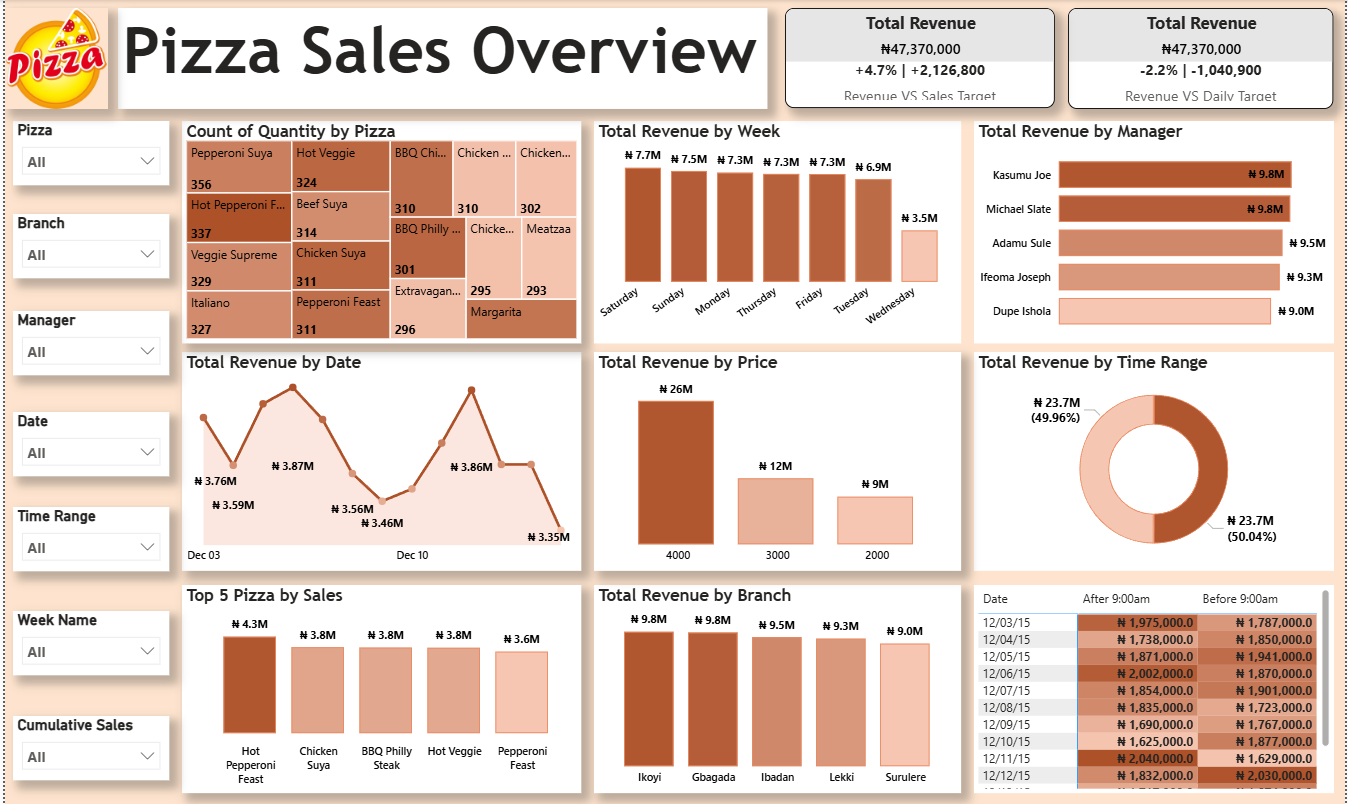

What the dashboard file says about the page in this screenshot:
{"tool":"powerbi","page":{"name":"Page 1","canvas":[1500,900],"ordinal":0},"visuals":[{"type":"card","title":"Total Revenue","fields":{"Values":["Sales Data.KPI Total Revenue VS Target"]},"box":[1190.3,8.7,297.3,112.7],"z":0},{"type":"stackedAreaChart","fields":{"Category":["Sales Data.Date"],"Y":["Sales Data.Total Revenue"]},"box":[198.2,393.9,447.2,245.3],"z":1000},{"type":"treemap","title":"Count of Quantity by Pizza","fields":{"Group":["Sales Data.Pizza Sold"],"Values":["CountNonNull(Sales Data.Quantity)"]},"box":[198.2,135,447.2,249],"z":2000},{"type":"barChart","title":"Total Revenue by Manager","fields":{"Category":["Branch Data.Manager"],"Y":["Sum(Sales Data.Revenue)"]},"box":[1085.1,135,402.6,249],"z":3000},{"type":"columnChart","title":"Total Revenue by Week","fields":{"Y":["Sum(Sales Data.Revenue)"],"Category":["Sales Data.Week Name"]},"box":[659,135,411.2,249],"z":4000},{"type":"donutChart","title":"Total Revenue by Time Range","fields":{"Category":["Sales Data.Time Range"],"Y":["Sum(Sales Data.Revenue)"]},"box":[1085.1,393.9,402.6,245.3],"z":5000},{"type":"columnChart","title":"Top 5 Pizza by Sales","fields":{"Category":["Sales Data.Pizza Sold"],"Y":["Sum(Sales Data.Revenue)"]},"box":[198.2,655.2,447.2,232.9],"z":6000},{"type":"columnChart","title":"Total Revenue by Branch","fields":{"Category":["Sales Data.Branch"],"Y":["Sum(Sales Data.Revenue)"]},"box":[659,655.2,411.2,232.9],"z":7000},{"type":"columnChart","fields":{"Category":["Sales Data.Price"],"Y":["Sales Data.Total Revenue"]},"box":[659,393.9,411.2,245.3],"z":8000},{"type":"pivotTable","fields":{"Rows":["Sales Data.Date"],"Columns":["Sales Data.Time Range"],"Values":["Sum(Sales Data.Revenue)"]},"box":[1085.1,655.2,402.6,232.9],"z":9000},{"type":"card","title":"Total Revenue","fields":{"Values":["Daily Target.KPI Total Revenue VS Sales Target"]},"box":[873.2,8.8,302,112.5],"z":10000},{"type":"textbox","box":[126.3,8.7,727.1,112.7],"z":11000},{"type":"slicer","title":"Pizza","fields":{"Values":["Sales Target.Pizza"]},"box":[8.7,135,174.6,71.8],"z":12000},{"type":"slicer","title":"Branch","fields":{"Values":["Branch Data.Branch"]},"box":[8.7,239.1,174.6,71.8],"z":13000},{"type":"slicer","title":"Manager","fields":{"Values":["Branch Data.Manager"]},"box":[8.7,348.1,174.6,71.8],"z":14000},{"type":"slicer","title":"Date","fields":{"Values":["Sales Data.Date"]},"box":[8.7,460.8,174.6,71.8],"z":15000},{"type":"slicer","title":"Time Range","fields":{"Values":["Sales Data.Time Range"]},"box":[8.7,567.3,174.6,71.8],"z":16000},{"type":"slicer","title":"Week Name","fields":{"Values":["Sales Data.Week Name"]},"box":[8.7,683.7,174.6,71.8],"z":17000},{"type":"slicer","title":"Cumulative Sales","fields":{"Values":["Sales Data.Cumulative Sales"]},"box":[8.7,801.4,174.6,71.8],"z":18000},{"type":"image","box":[0,8.7,115.2,112.7],"z":19000}]}

Visuals, with their boxes in screenshot pixels (x1, y1, x2, y2), scaled from the page's 1500x900 canvas onto the 1348x804 screenshot:
"Total Revenue" card: BBox(1070, 8, 1337, 108)
stackedAreaChart - Sales Data.Date x Sales Data.Total Revenue: BBox(178, 352, 580, 571)
"Count of Quantity by Pizza" treemap: BBox(178, 121, 580, 343)
"Total Revenue by Manager" barChart: BBox(975, 121, 1337, 343)
"Total Revenue by Week" columnChart: BBox(592, 121, 962, 343)
"Total Revenue by Time Range" donutChart: BBox(975, 352, 1337, 571)
"Top 5 Pizza by Sales" columnChart: BBox(178, 585, 580, 793)
"Total Revenue by Branch" columnChart: BBox(592, 585, 962, 793)
columnChart - Sales Data.Price x Sales Data.Total Revenue: BBox(592, 352, 962, 571)
pivotTable - Sales Data.Date x Sales Data.Time Range: BBox(975, 585, 1337, 793)
"Total Revenue" card: BBox(785, 8, 1056, 108)
textbox: BBox(114, 8, 767, 108)
"Pizza" slicer: BBox(8, 121, 165, 185)
"Branch" slicer: BBox(8, 214, 165, 278)
"Manager" slicer: BBox(8, 311, 165, 375)
"Date" slicer: BBox(8, 412, 165, 476)
"Time Range" slicer: BBox(8, 507, 165, 571)
"Week Name" slicer: BBox(8, 611, 165, 675)
"Cumulative Sales" slicer: BBox(8, 716, 165, 780)
image: BBox(0, 8, 104, 108)
